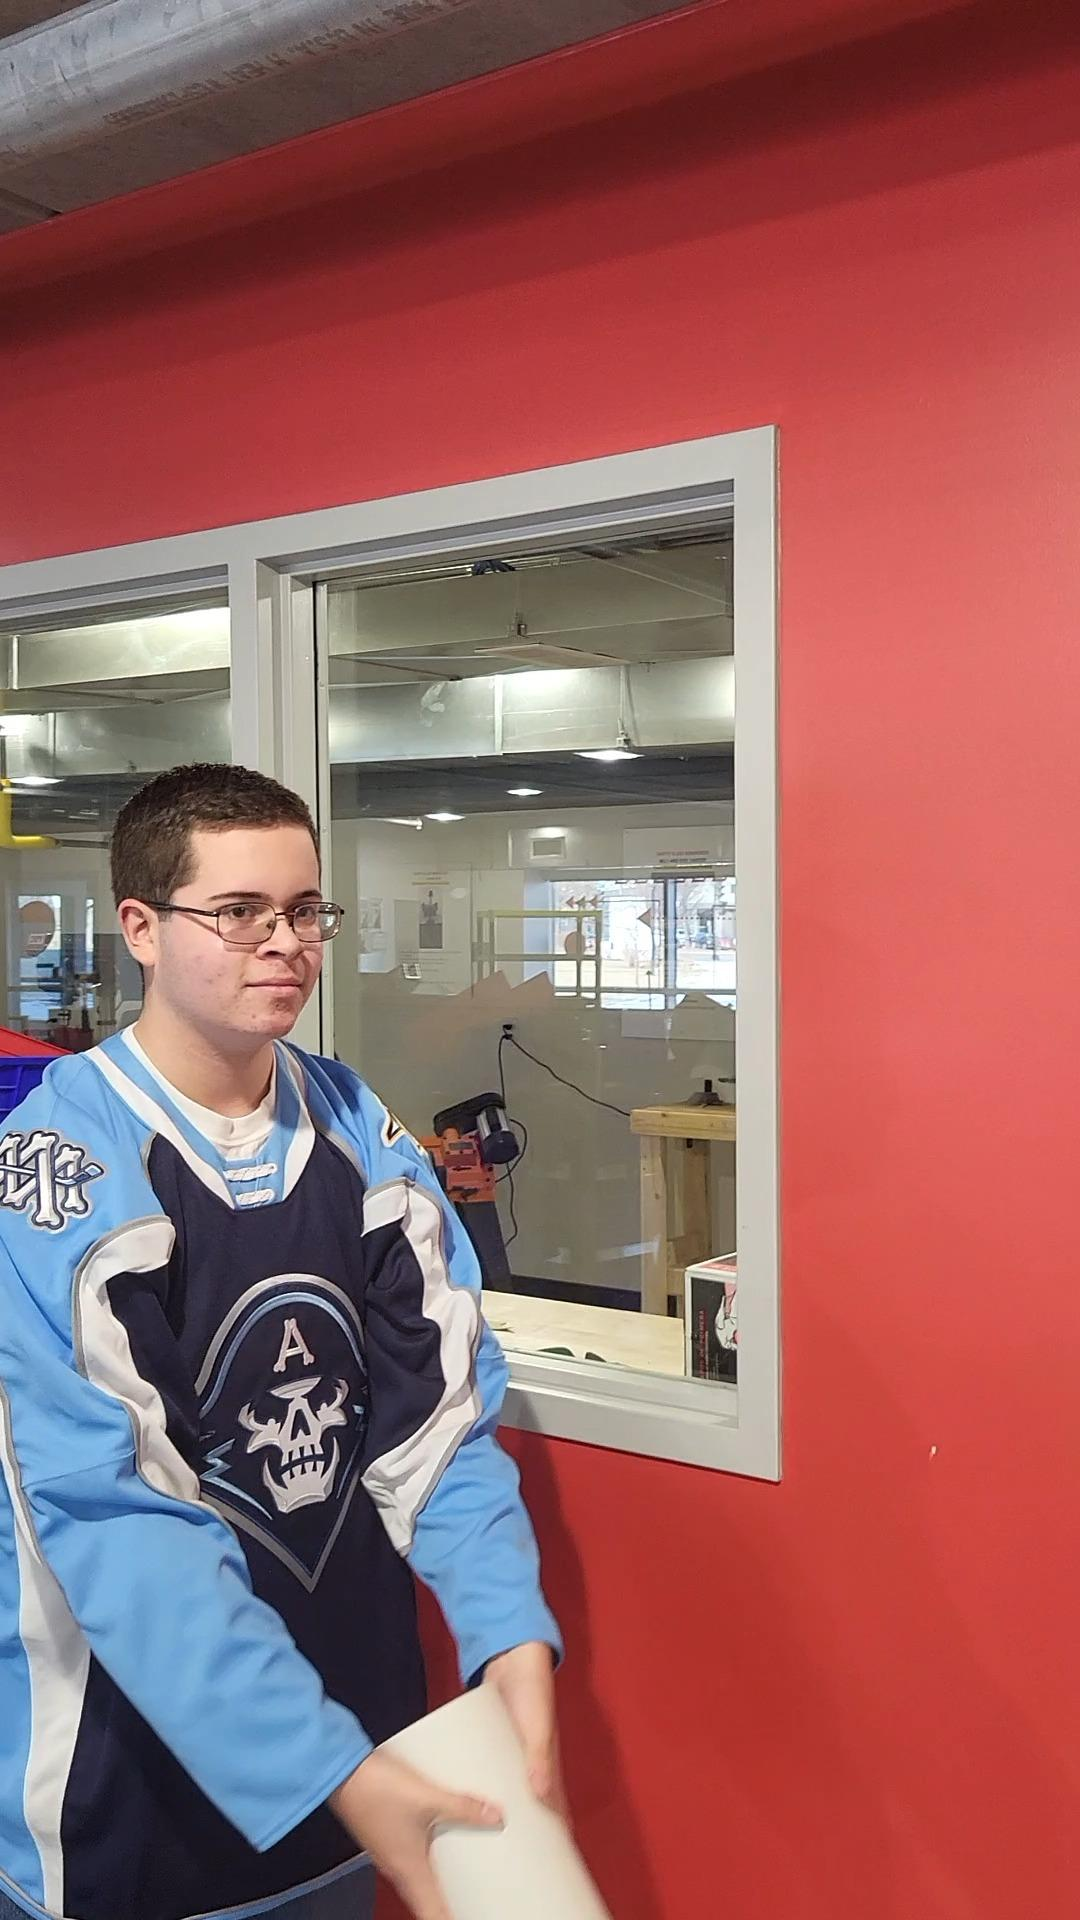coral: (356, 1680, 630, 1920)
